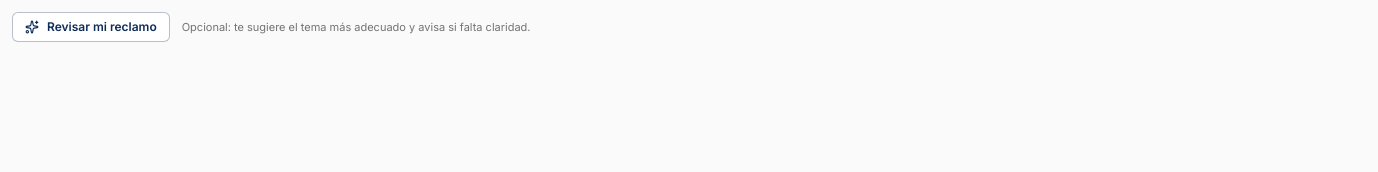
AiTicketTextReview › avisa que el tema parece otro y permite cambiarlo
The image size is (1378, 172).
Later steps or results of the test are not shown.
Click the button "Revisar mi reclamo".
click(91, 27)  # box [12,12,170,42]
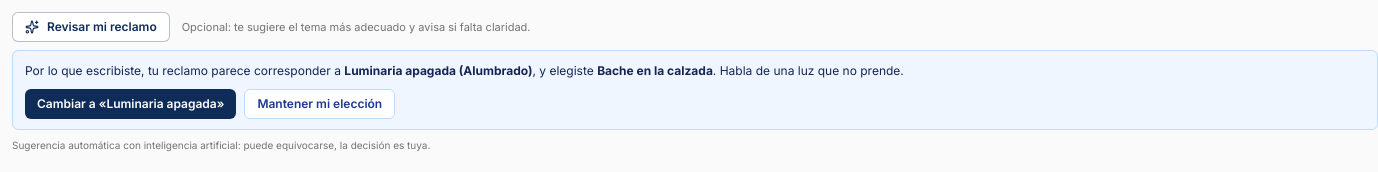
Result: the text "parece corresponder a" shows "Luminaria apagada (Alumbrado)" at [344,63,532,78]
Result: the text "Habla de una luz que no prende" is shown at [716,63,904,78]
Result: the text "Sugerencia automática con inteligencia artificial" is shown at [12,139,430,151]
